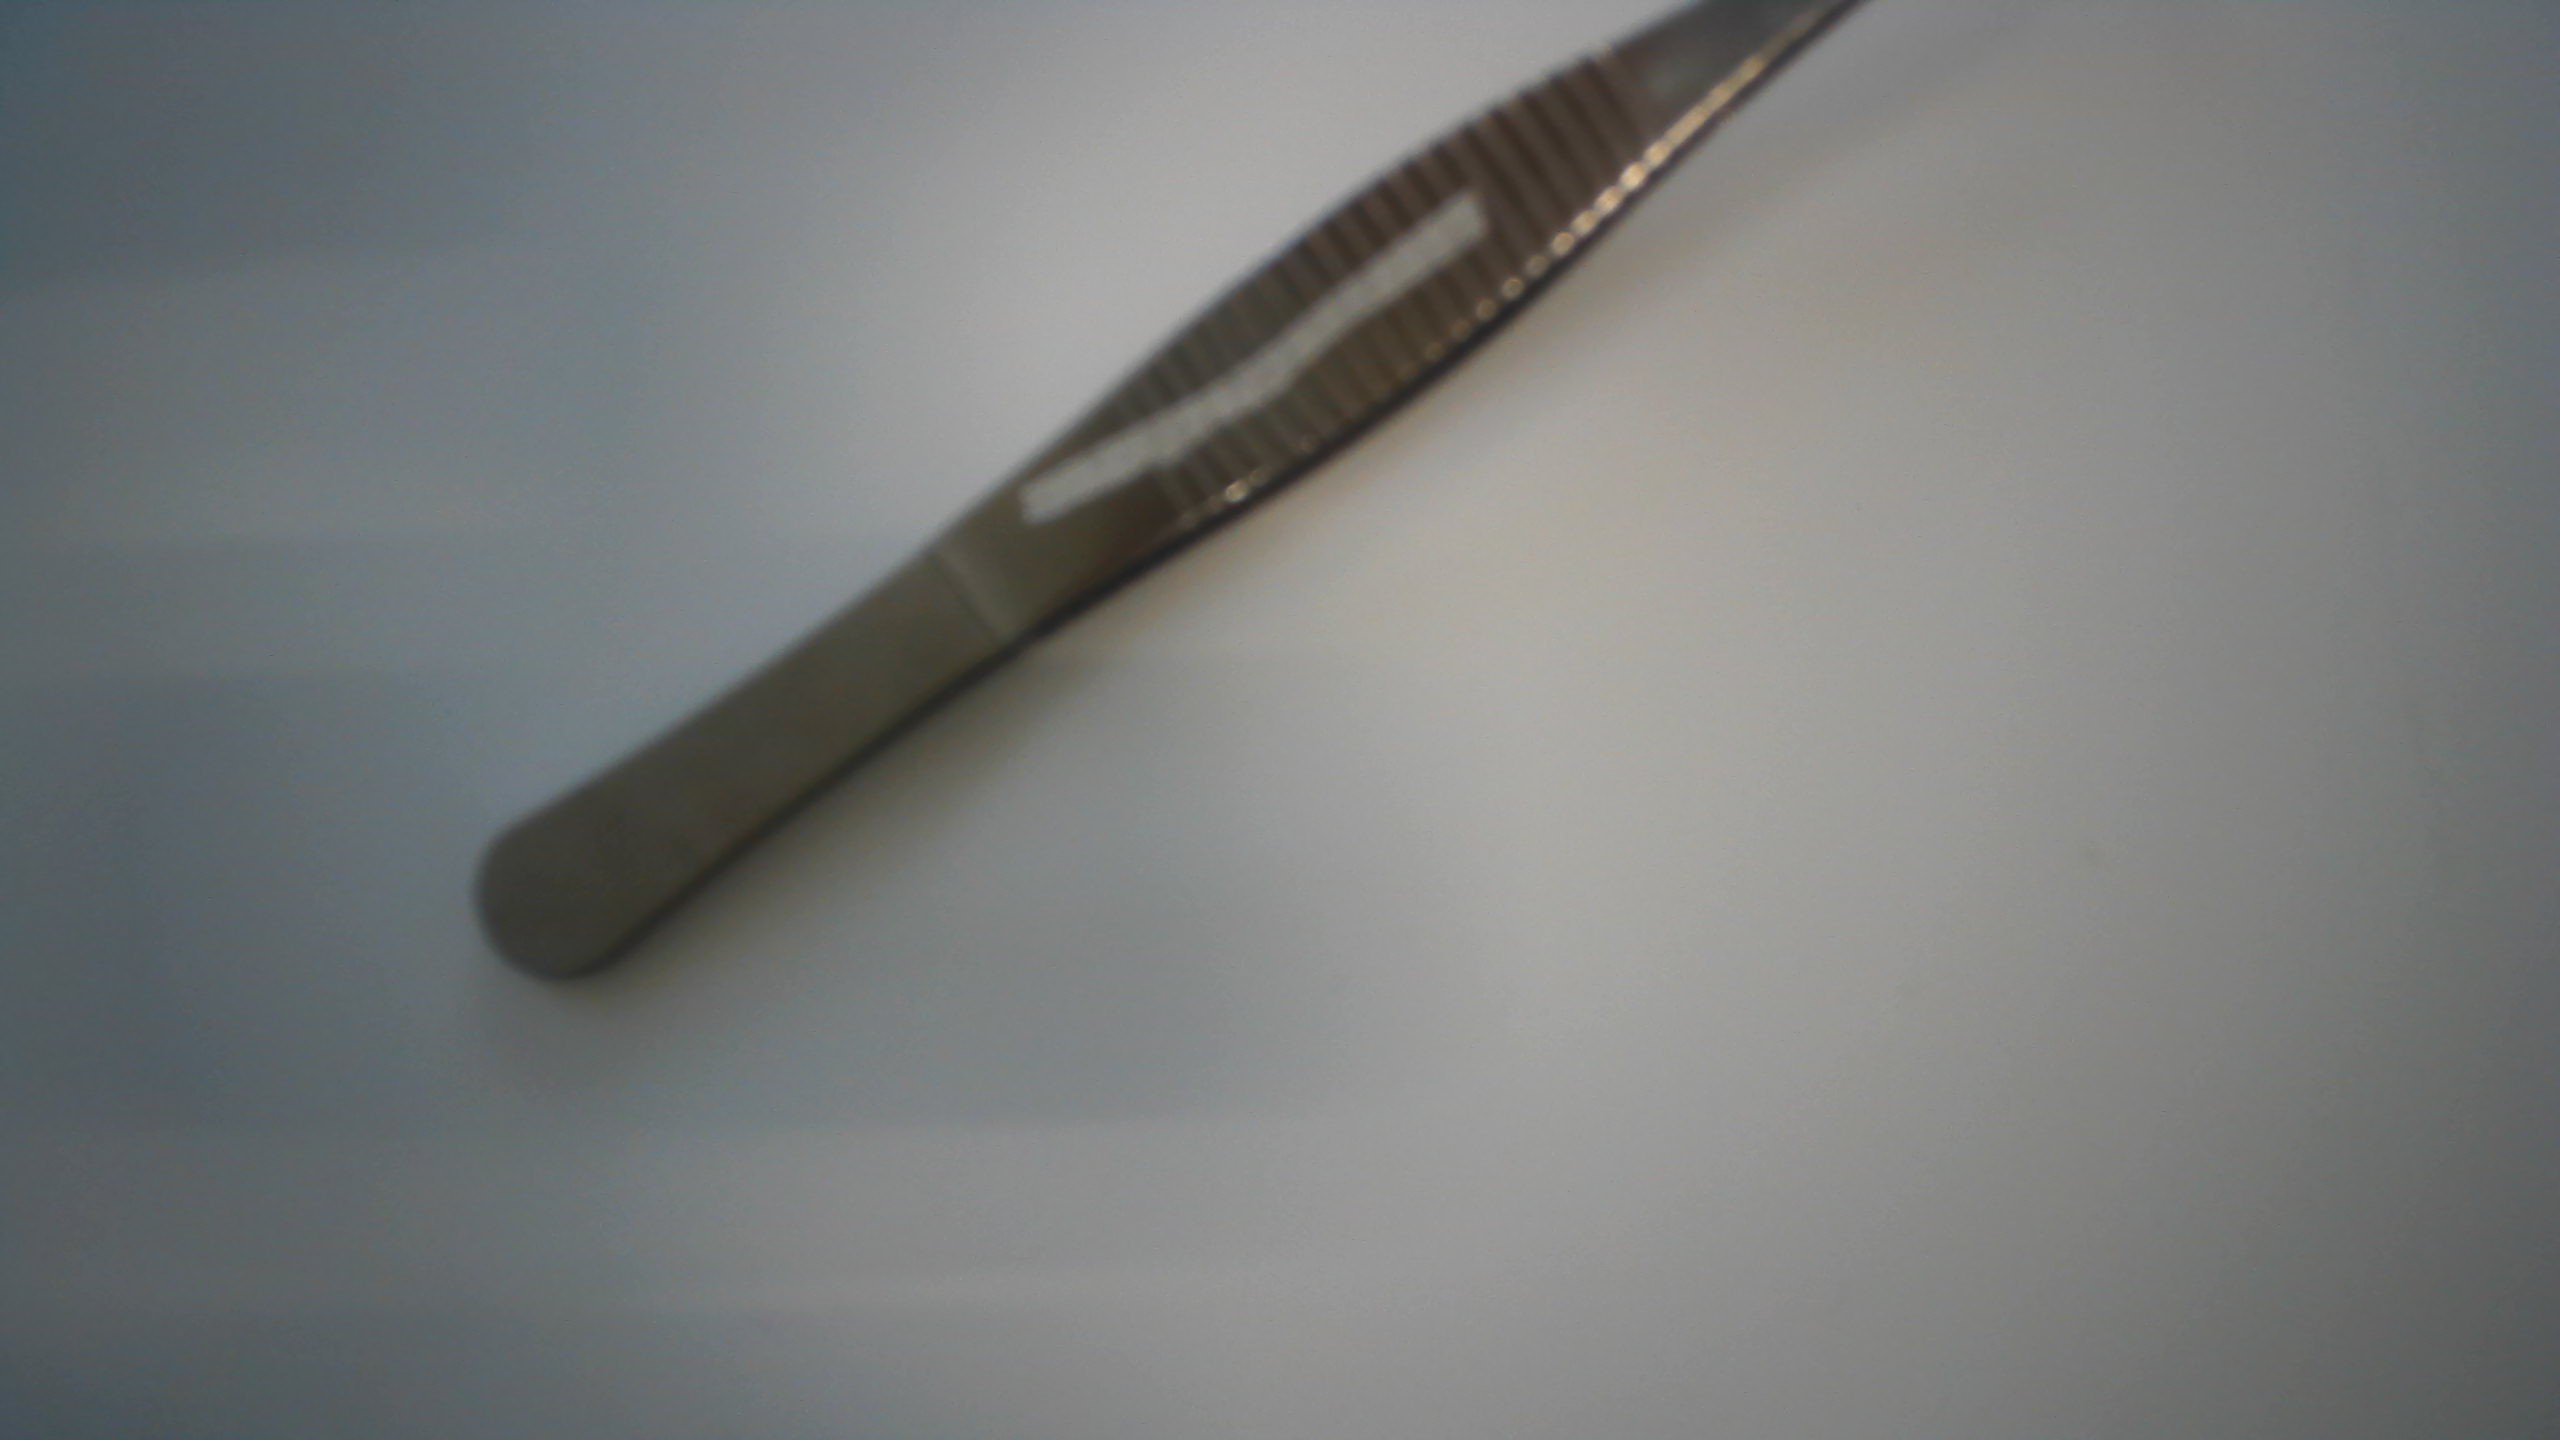Scratches: (1004, 181, 1500, 542)
